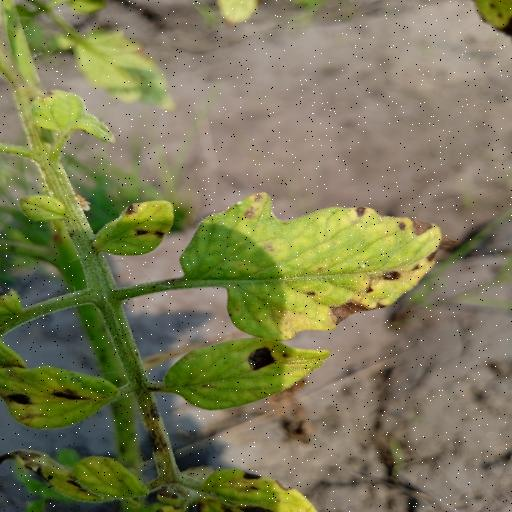Tomato_Brown_Spots: (175, 186, 451, 345), (168, 335, 334, 414), (0, 360, 131, 434)
